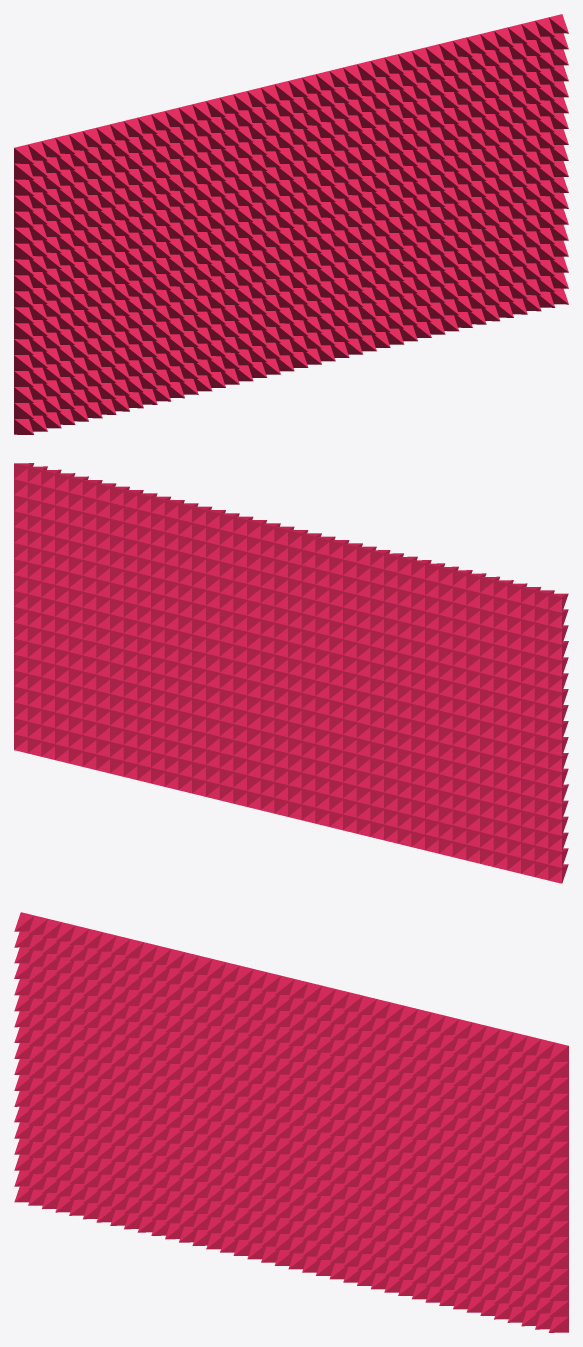
File: pointy_background.glb
3 views of the same model, one above another, from view 1: azimuth 30°, elevation 25°; view 2: azimuth 150°, elevation 25°; view 3: azimuth 330°, elevation 25° (orthographic).
Parts seen in each view (by area): view 1: Plane; view 2: Plane; view 3: Plane.
Boxes of the visible parts, <box> form: Plane: <box>14,14,568,434</box>; Plane: <box>14,463,568,883</box>; Plane: <box>14,912,568,1332</box>.
Size of the model in its own units: 8 by 4 by 0.3399.
